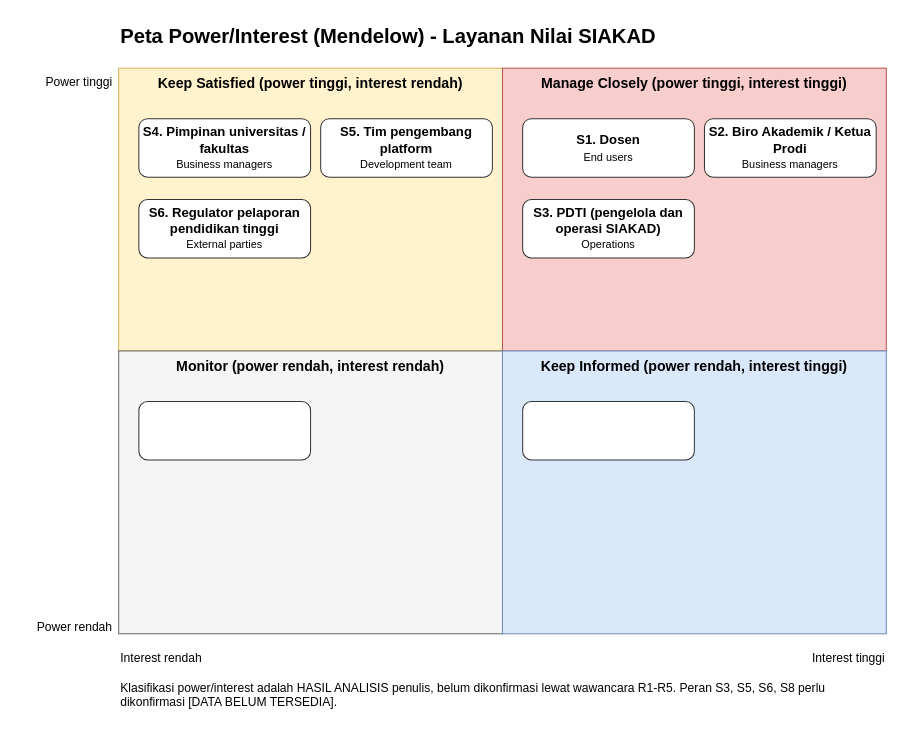
This 904x731 diagram has some shape labels left out. The centre of each missing label's shape, as x and y in pixels:
"S7. Mahasiswa End users" goes at [608,430].
"S8. Pengguna eksternal transkrip External parties" goes at [224,430].
